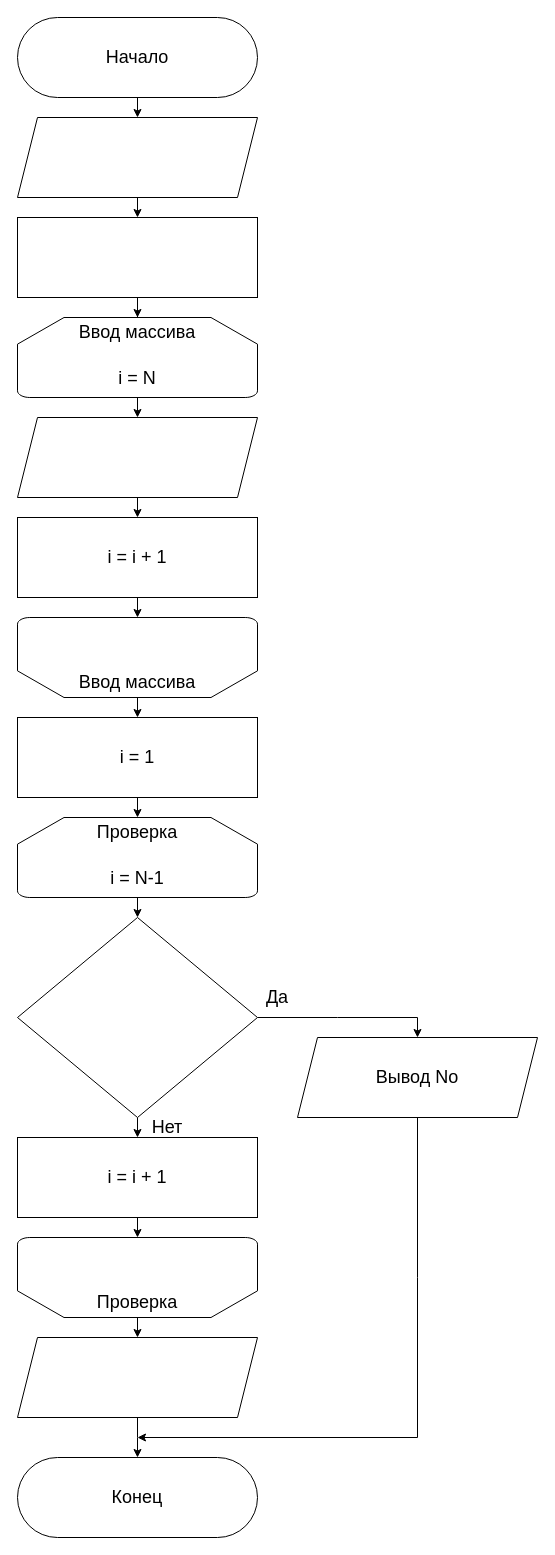
The diagram is 555 pixels wide and 1555 high, and some of its shapes have lost their labels. Here are the shapes that lost their labels. From the top down, the centre of each, then its label:
pixel 137 157: Ввод N
pixel 137 257: i = 0
pixel 137 457: Ввод a[i]
pixel 137 1017: не (a[i] > a[i-1] и a[i] > a[i+1]) или (a[i] < a[i-1] и a[i] < a[i+1])
pixel 137 1377: Вывод Yes
